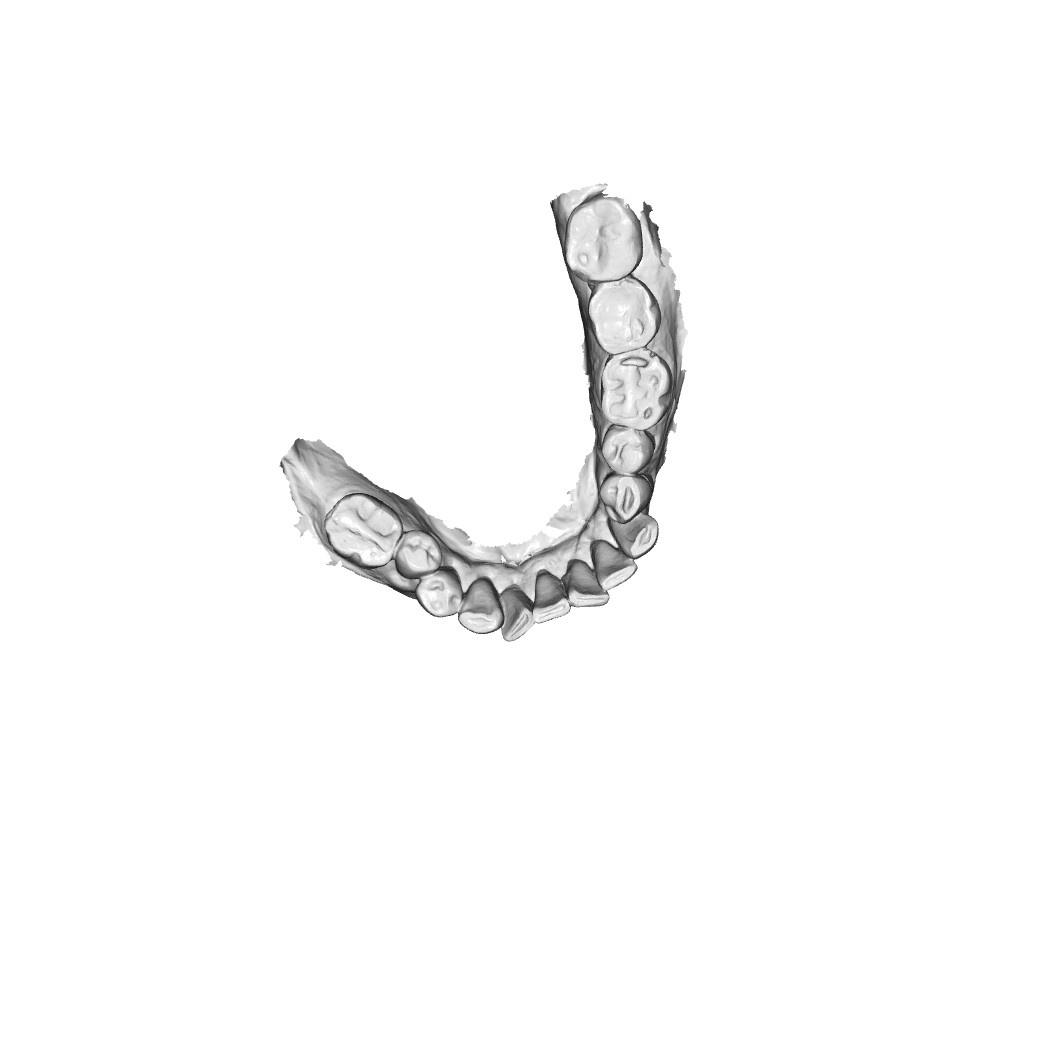canine: (613, 507, 659, 560), (459, 578, 503, 632)
incisor: (562, 561, 610, 611), (593, 541, 637, 592), (497, 591, 538, 643), (532, 573, 569, 626)
molar: (566, 191, 645, 283), (597, 352, 676, 431), (327, 495, 403, 570), (585, 282, 658, 349)
premolar: (597, 474, 650, 522), (597, 427, 649, 472), (418, 568, 463, 618), (396, 530, 440, 578)
